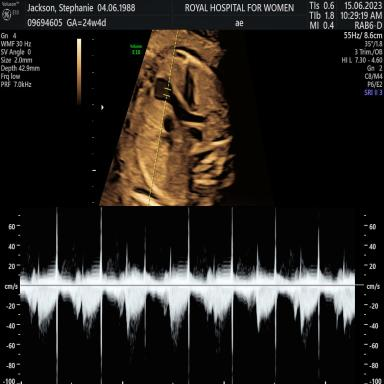Ultrasound-Waves: (26, 207, 356, 384)
